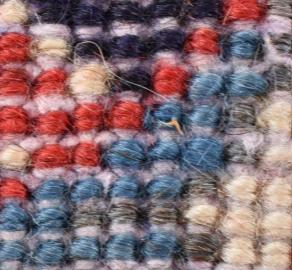Knot: (70, 40, 98, 62), (111, 73, 141, 92), (32, 115, 60, 135), (214, 242, 242, 262), (105, 21, 133, 38), (36, 5, 60, 24), (70, 113, 92, 132), (240, 162, 257, 178), (272, 239, 291, 253), (47, 97, 58, 111), (171, 258, 184, 269), (214, 261, 231, 269)
